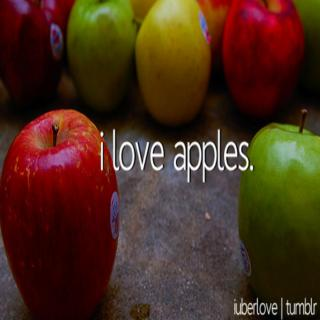Apple: (3, 105, 114, 319), (236, 107, 320, 319), (220, 0, 304, 124), (132, 0, 210, 127), (66, 0, 137, 112), (0, 0, 66, 105), (292, 0, 319, 111), (194, 0, 234, 54)
